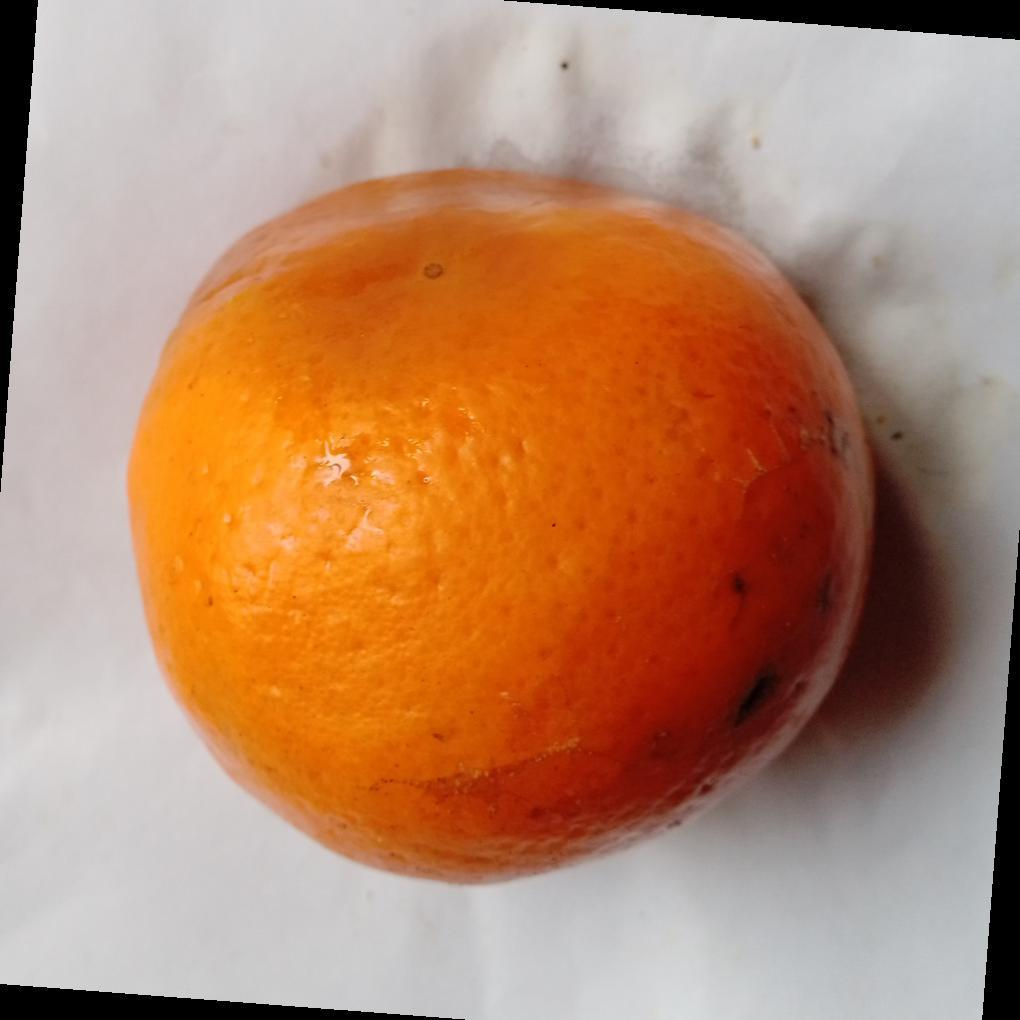FreshOrange: (123, 168, 877, 891)
